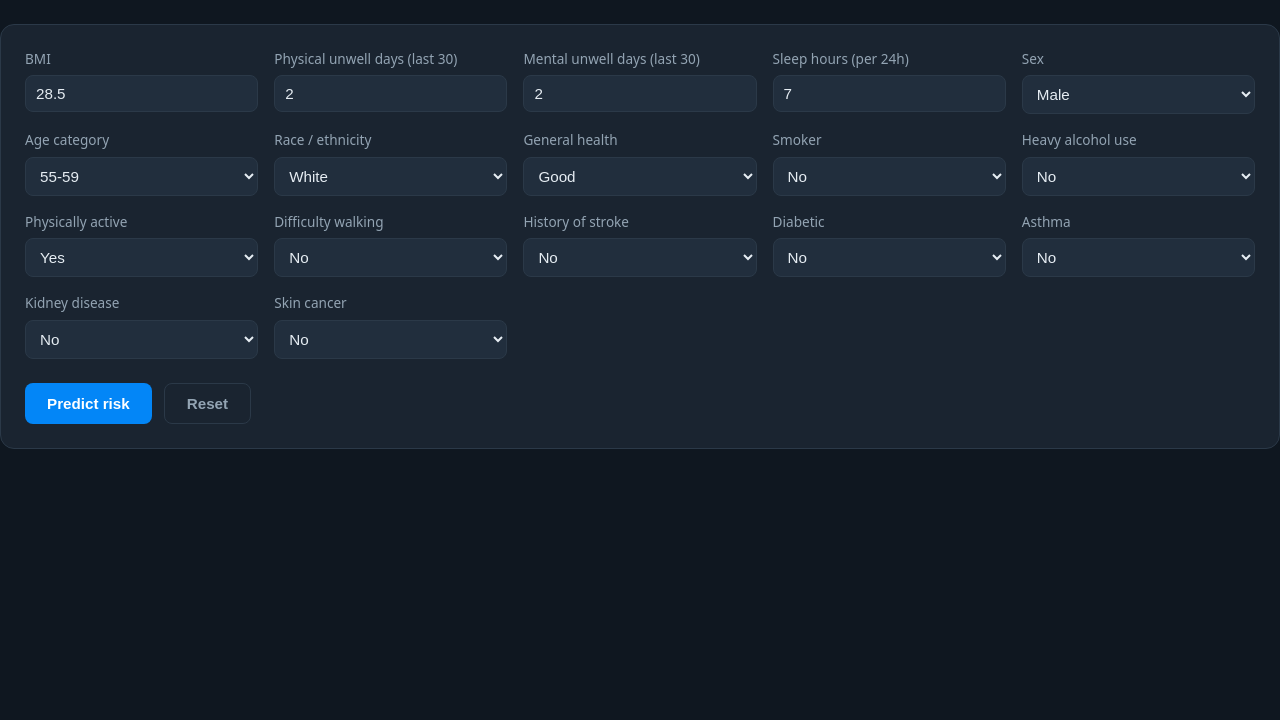
Test: PredictionForm › sends the entered features and displays the returned risk label and probability
Enter values into a numeric field and a categorical field.
Replace the text in the number field labelled "BMI" with "33.3" at (142, 94), box [25,75,258,112]
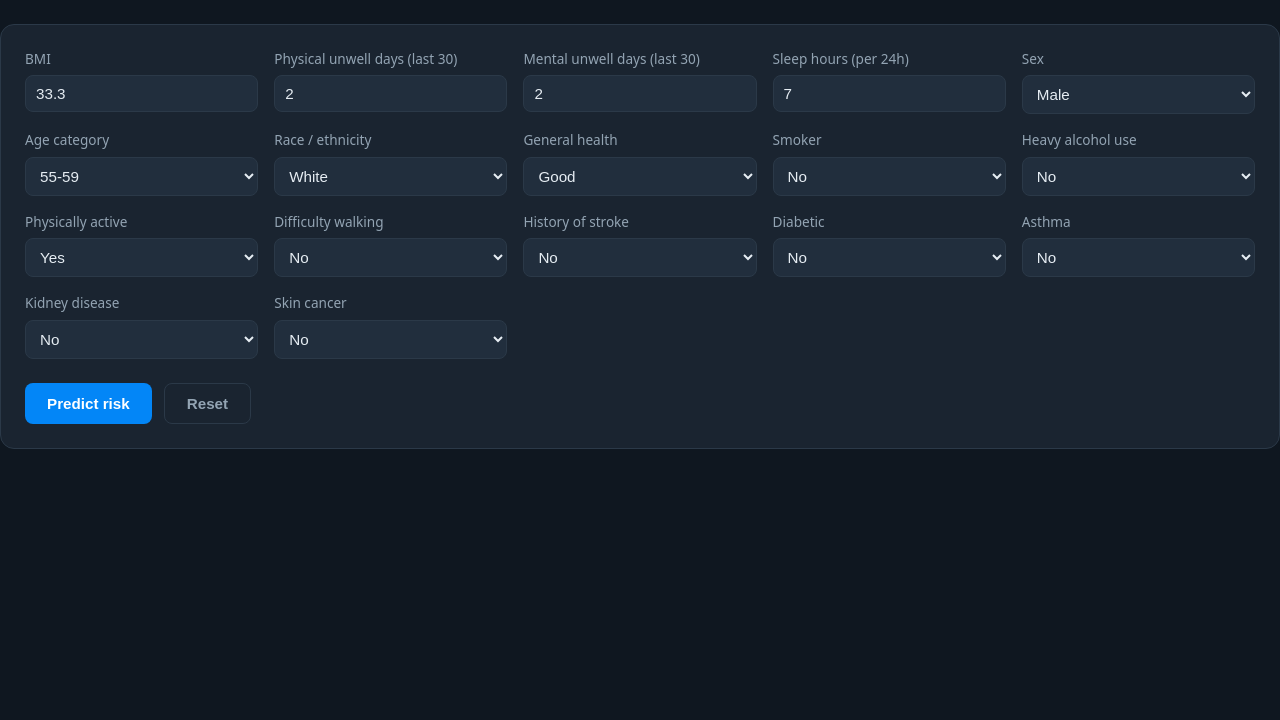
Select "Female" in the dropdown labelled "Sex" at (1138, 95), box [1022,75,1255,114]
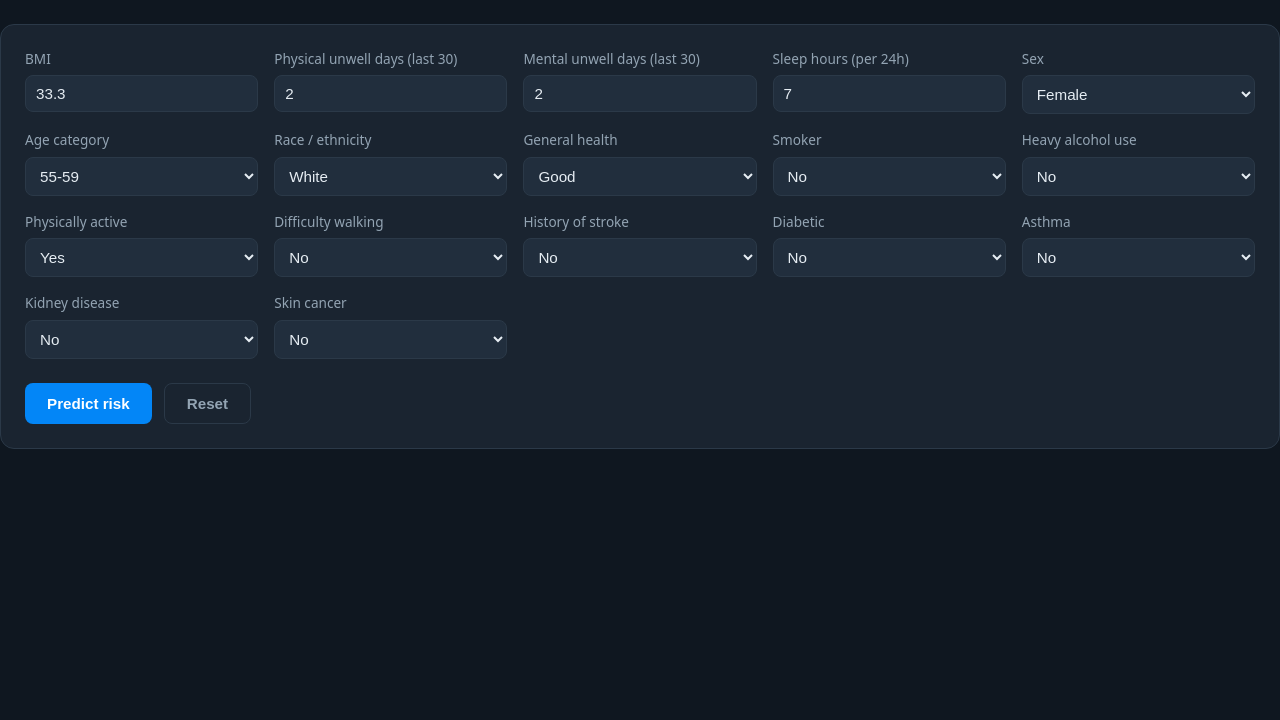
Click the button "Predict risk" at (88, 403), box [25,383,152,424]
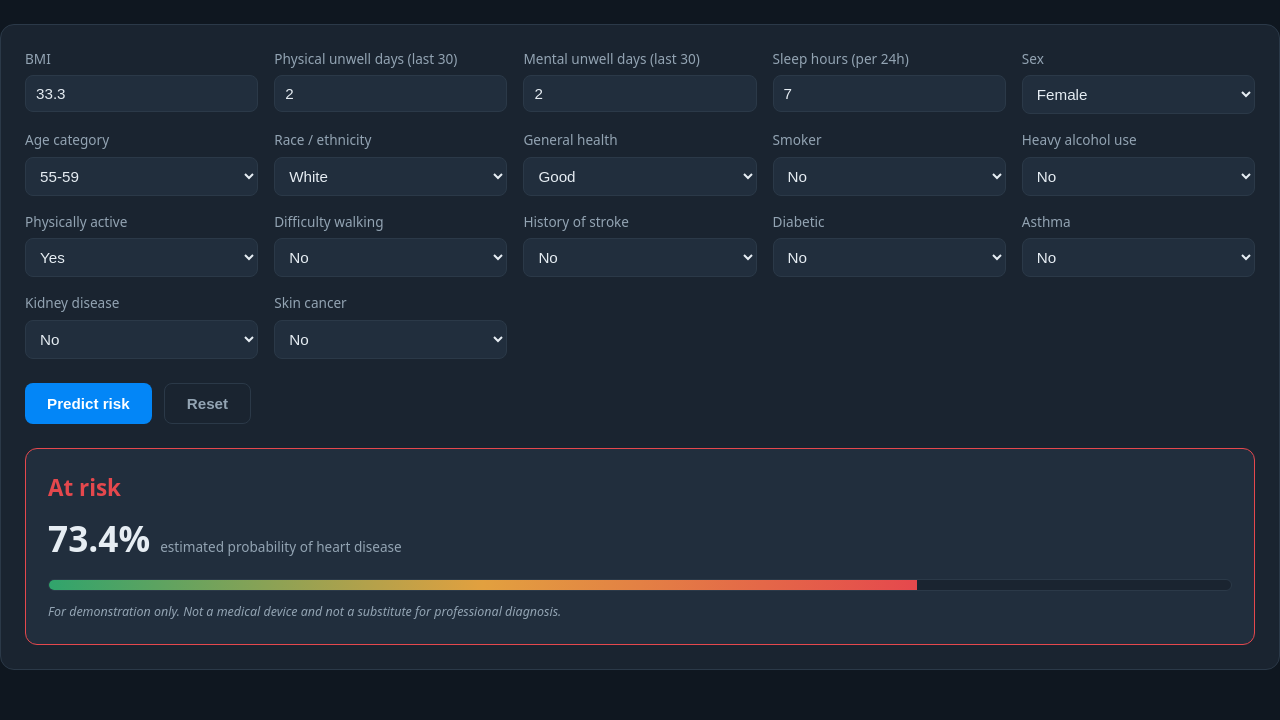
Result: the text "At risk" is shown at [48,472,121,503]
